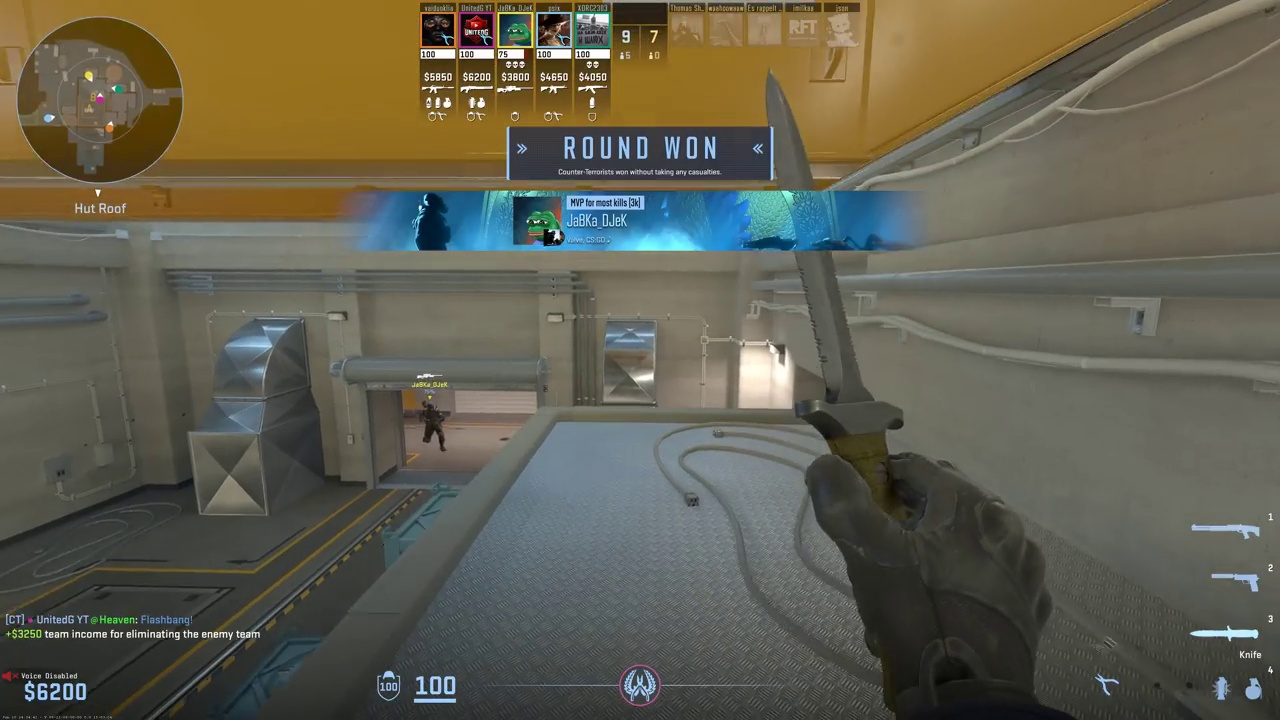CT: (421, 402, 445, 450)
